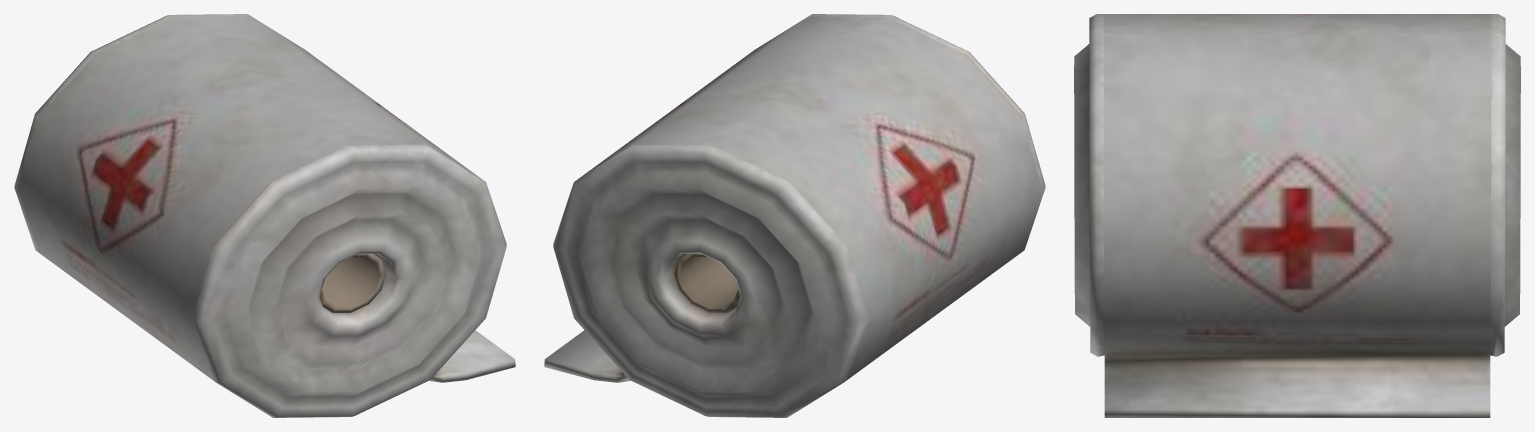
File: bandage.glb
3 views of the same model, side by side, from view 1: azimuth 30°, elevation 25°; view 2: azimuth 150°, elevation 25°; view 3: azimuth 270°, elevation 25° (orthographic). The views are drawn at different scales.
Parts seen in each view (by area): view 1: defaultMaterial; view 2: defaultMaterial; view 3: defaultMaterial.
Boxes of the visible parts, x1=… form: defaultMaterial: x1=14, y1=14, x2=515, y2=417; defaultMaterial: x1=544, y1=14, x2=1045, y2=417; defaultMaterial: x1=1074, y1=14, x2=1520, y2=417.
Bounding box in the file's own units: 0.3354 × 0.267 × 0.3621.
Materials: 1 (1 with a texture image).
